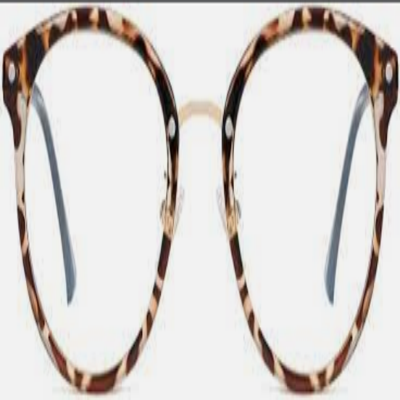glasses: (6, 2, 400, 397)
